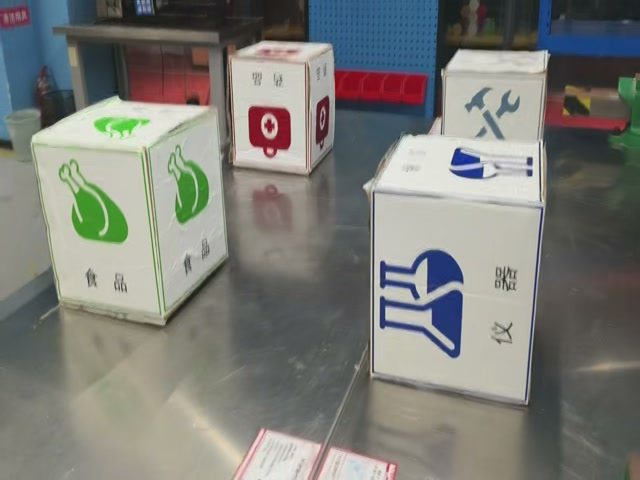Cube_food: (32, 98, 215, 154)
Cube_ins: (371, 135, 544, 213)
Cube_medicine: (229, 41, 332, 66)
Cube_tool: (442, 50, 548, 78)
